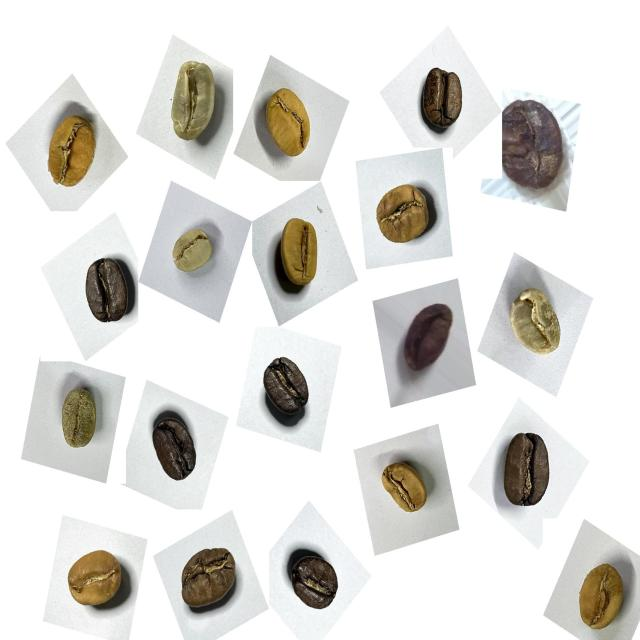bad: (489, 87, 578, 202), (394, 294, 462, 386)
dark: (489, 422, 562, 522), (71, 246, 141, 334), (253, 342, 320, 431), (140, 403, 207, 491), (280, 539, 346, 622)
green: (156, 51, 230, 158), (498, 280, 574, 370), (48, 380, 110, 464), (162, 218, 222, 288)
light: (365, 170, 444, 257), (36, 105, 108, 200), (56, 538, 134, 624), (254, 77, 325, 168), (266, 210, 333, 303), (566, 551, 635, 638), (374, 452, 440, 528)
medium: (171, 536, 246, 622), (411, 62, 475, 139)
